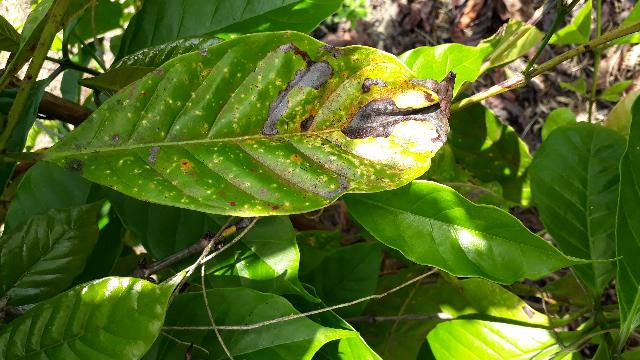rust_level_4: (42, 31, 456, 217)
